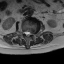CCS_normal: (26, 30, 28, 38)
LFS_normal: (31, 30, 33, 37)
LLS_normal: (28, 30, 31, 36)
RFS_normal: (22, 29, 24, 35)
RLS_normal: (24, 29, 26, 36)
